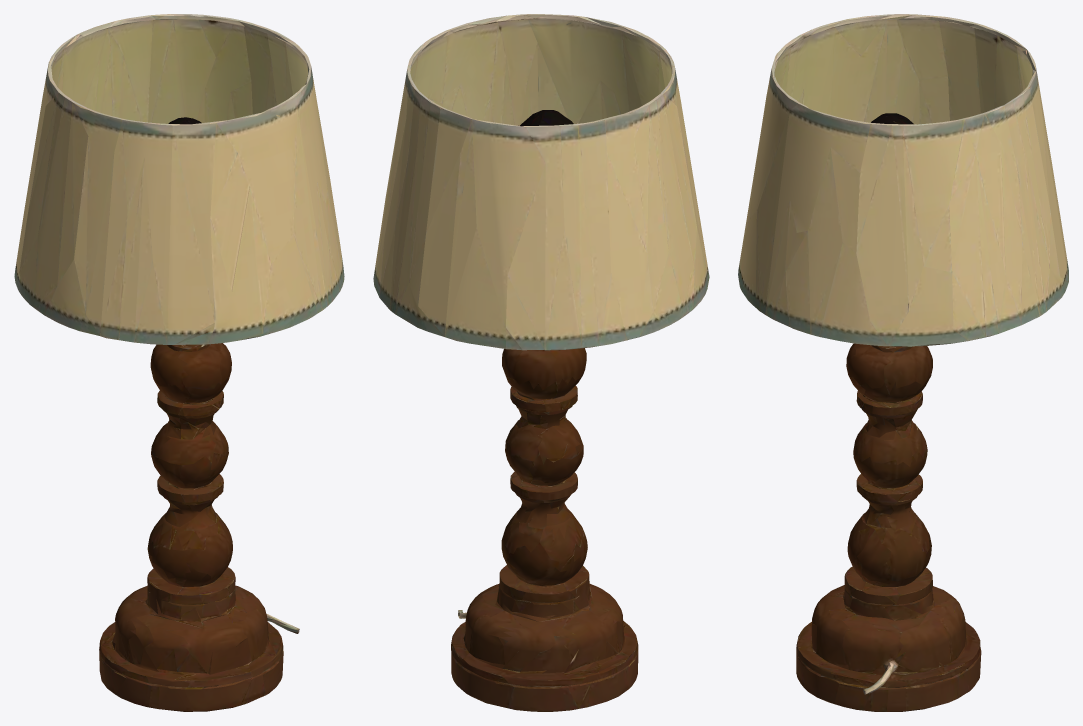
File: table_lamp.glb
3 renders of one model, left to right at view 1: azimuth 30°, elevation 25°; view 2: azimuth 150°, elevation 25°; view 3: azimuth 270°, elevation 25°, orthographic.
Bounding box in the file's own units: 0.9467 × 1.9 × 0.9456.
1 material, 1 textured.
